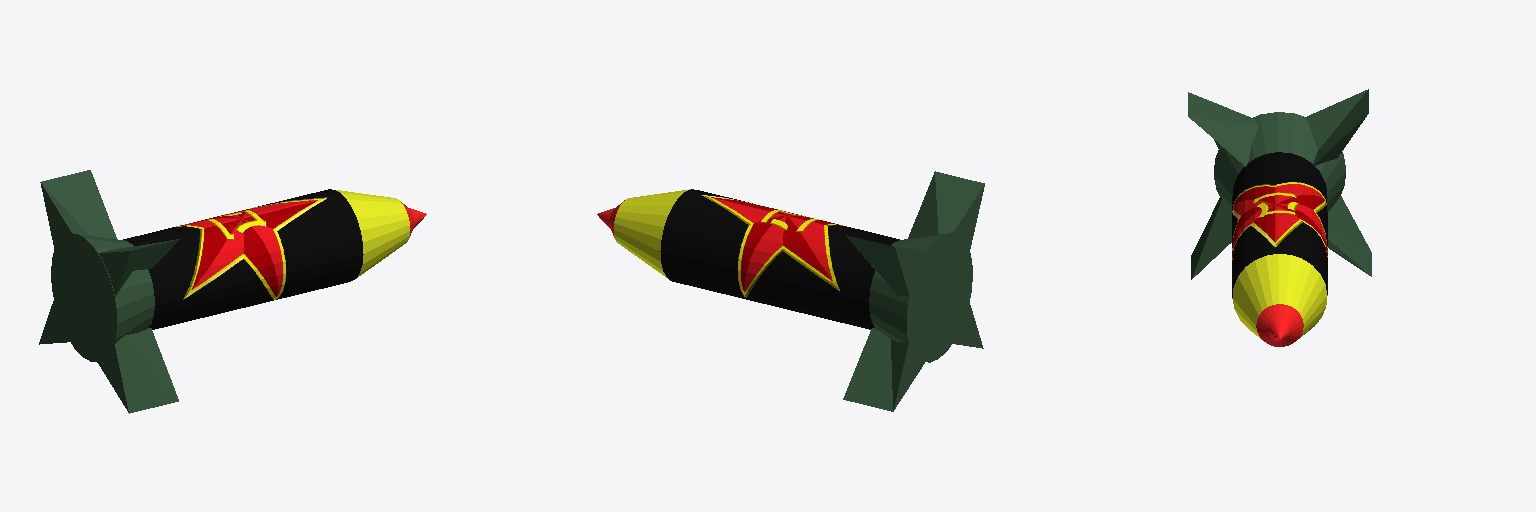
3 renders of one model, left to right at view 1: azimuth 30°, elevation 25°; view 2: azimuth 150°, elevation 25°; view 3: azimuth 270°, elevation 25°, orthographic.
Parts seen in each view (by area): view 1: Cone01, Box01; view 2: Cone01, Box01; view 3: Cone01, Box01.
Part boxes in pixels (bbox=[...]): Cone01: bbox=[51, 189, 426, 362]; Box01: bbox=[39, 170, 179, 413]; Cone01: bbox=[597, 189, 972, 362]; Box01: bbox=[843, 171, 984, 411]; Cone01: bbox=[1214, 112, 1345, 346]; Box01: bbox=[1188, 89, 1371, 279].
Bounding box in the file's own units: 33.36 × 15.47 × 15.47.
Materials: 5 (1 with a texture image).